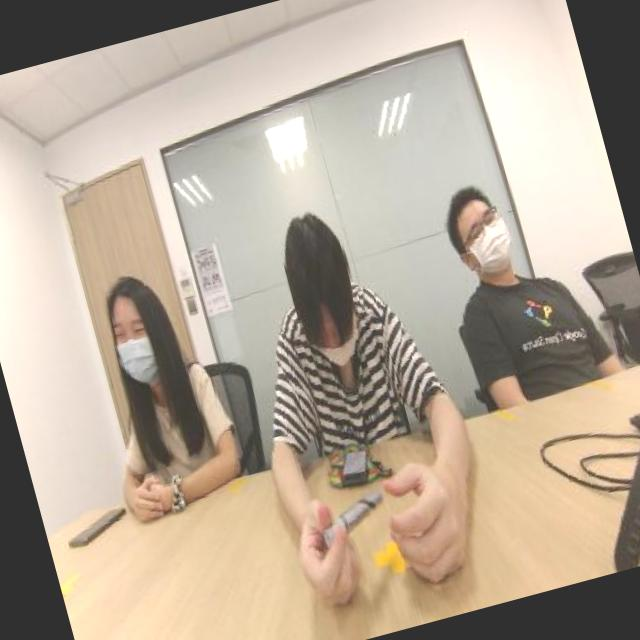Person: (224, 203, 458, 474), (390, 140, 614, 420), (76, 240, 244, 507)
